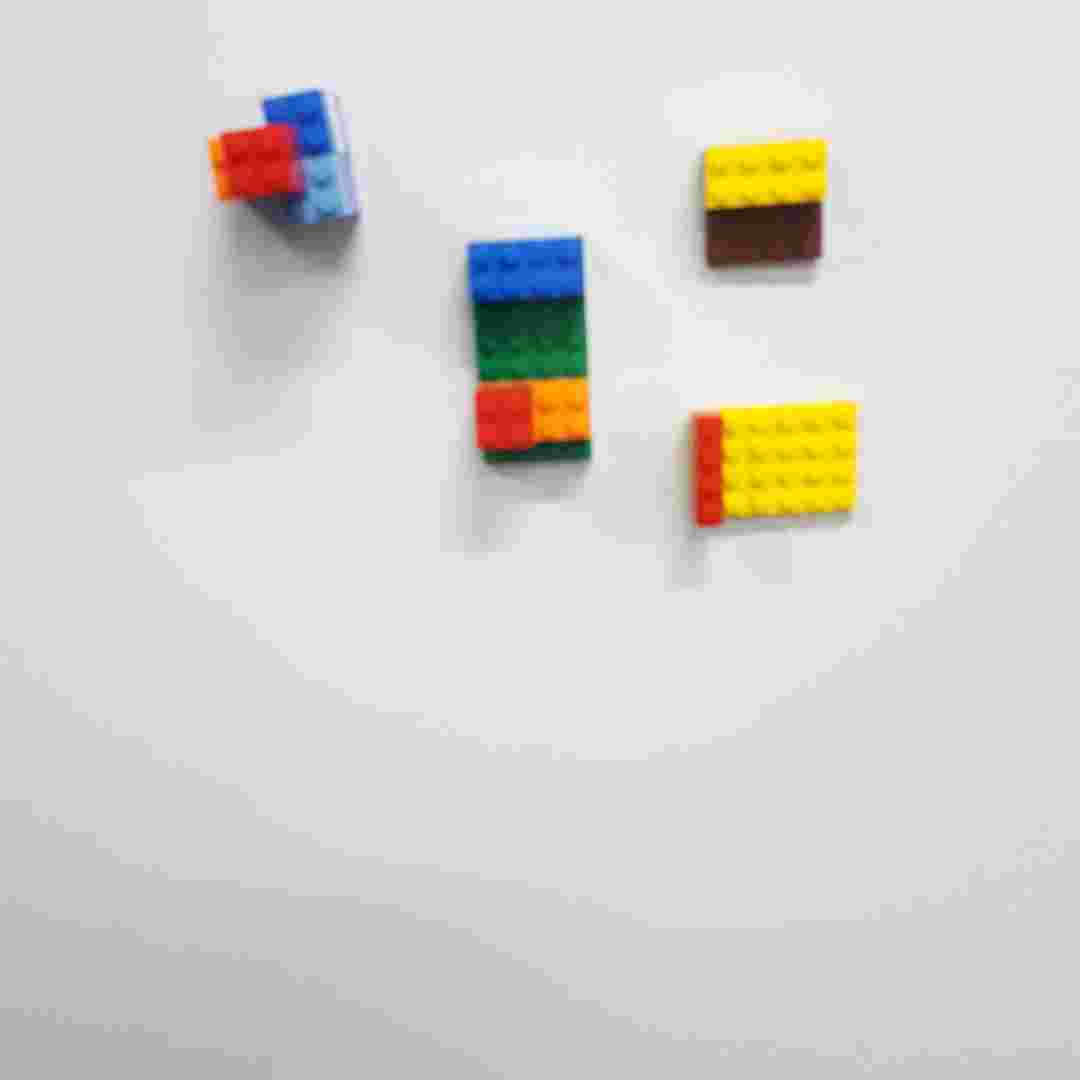LEGO: (468, 234, 599, 467), (690, 397, 865, 530), (209, 83, 365, 225), (701, 134, 834, 270)
